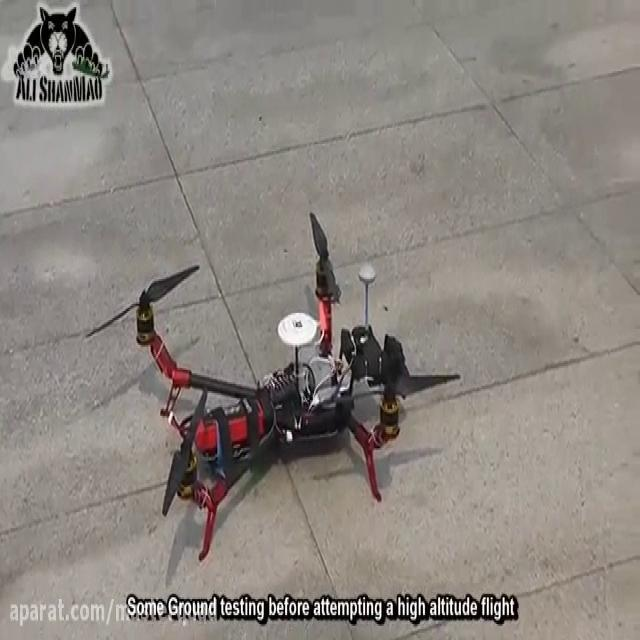drone: (81, 208, 463, 567)
